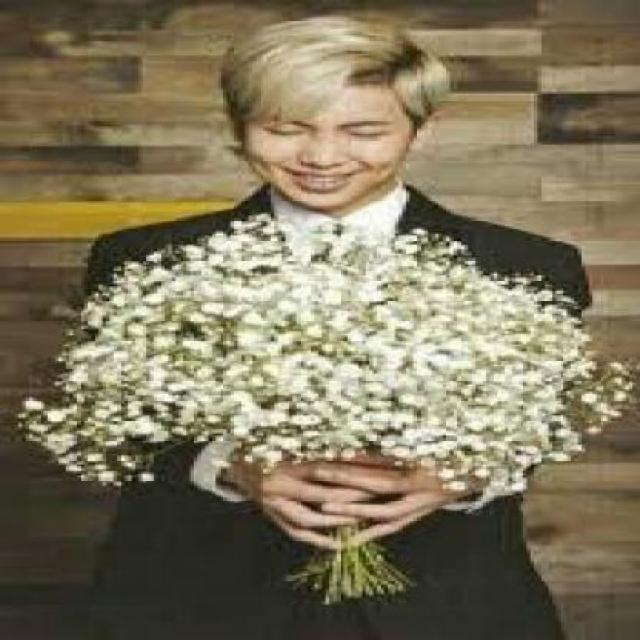flower: (54, 222, 612, 509)
